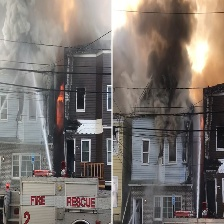fire: (53, 86, 68, 129)
smoke: (116, 1, 208, 141), (1, 1, 55, 74)
